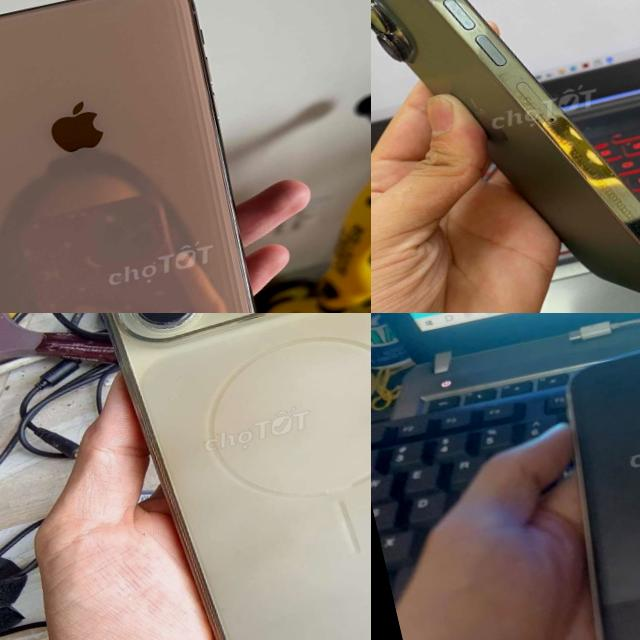scratch: (498, 48, 640, 242)
